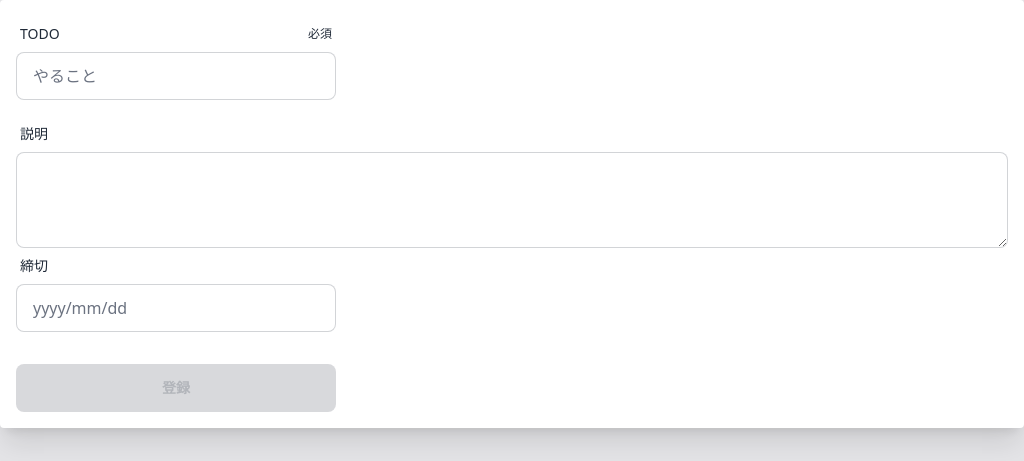
Form › 登録ボタンの活性非活性 › 締切を入力したとき › フォーマットが正しいとき
Type "2022/01/01" into the field with test id "dateInputField" at [176, 308], box [16, 284, 336, 332]
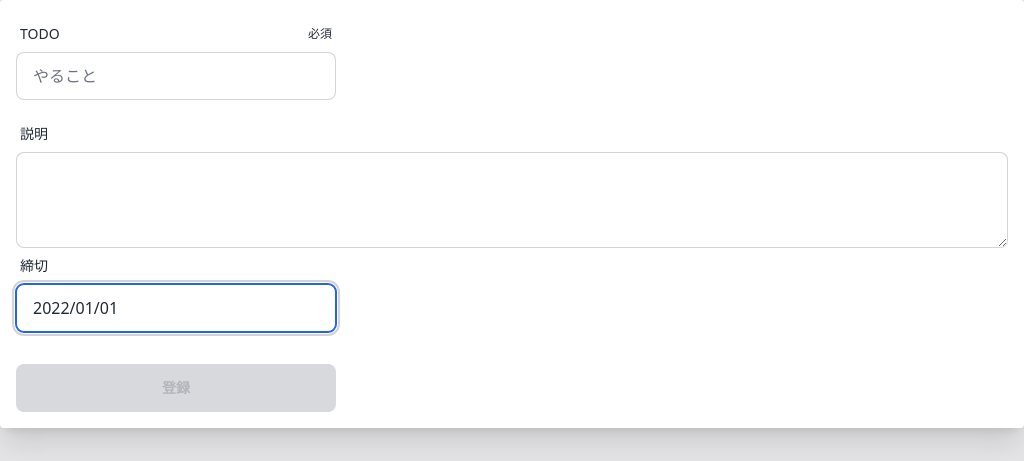
Type "Title" into the field with test id "titleInputField" at [176, 76], box [16, 52, 336, 100]
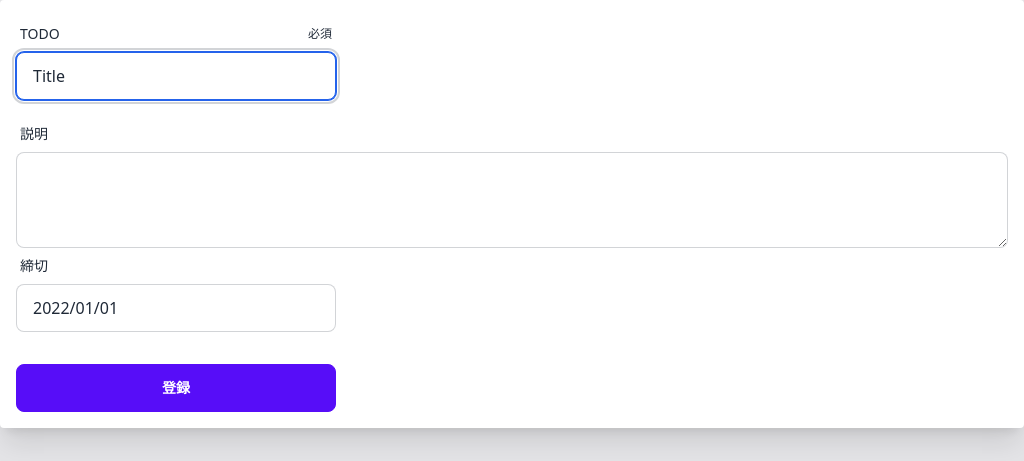
Check: the button with test id "submitButton" is enabled, box [16, 364, 336, 412]
